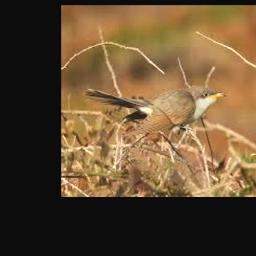Cuckoo: (86, 87, 228, 133)
